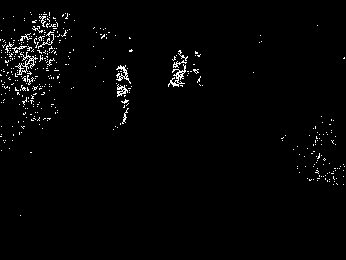person: (115, 65, 130, 129), (193, 50, 204, 89)
